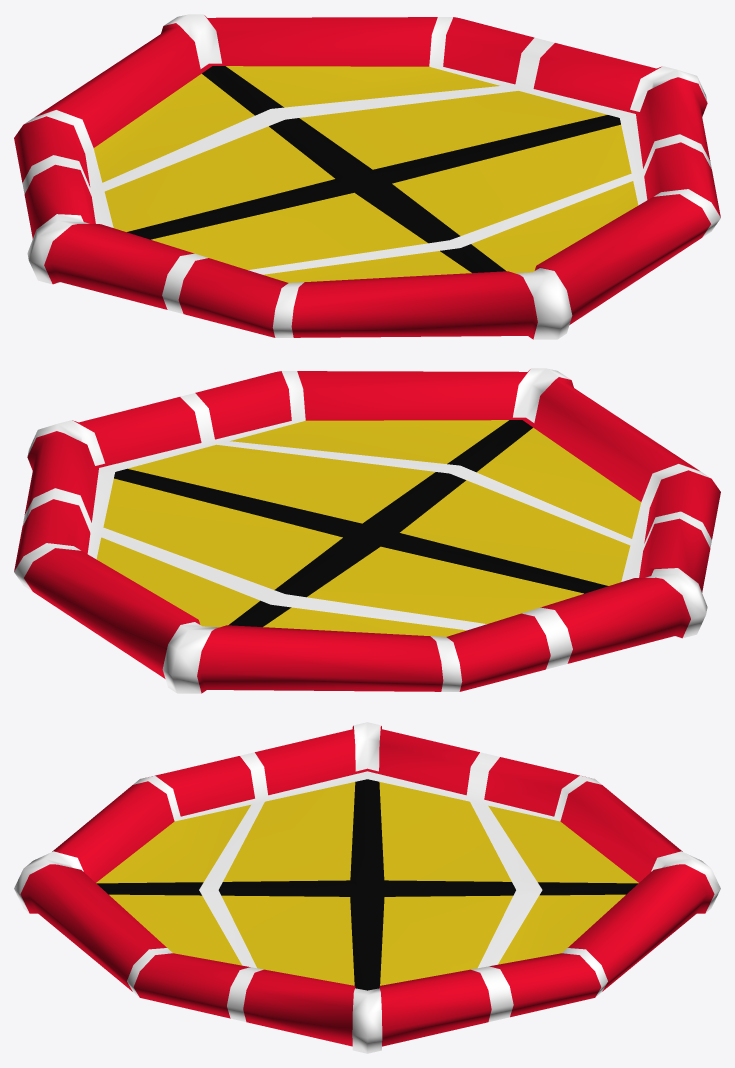
The model's file is bouer.glb.
3 views of the same model, one above another, from view 1: azimuth 30°, elevation 25°; view 2: azimuth 150°, elevation 25°; view 3: azimuth 270°, elevation 25° (orthographic). The views are drawn at different scales.
Visible parts, largest first — view 1: Cube; view 2: Cube; view 3: Cube.
Boxes of the visible parts, box(x1,y1,x2,y2) form: Cube: box(14, 14, 720, 339); Cube: box(14, 368, 720, 693); Cube: box(14, 722, 720, 1053).
Size of the model in its own units: 14.52 by 1.13 by 14.52.
